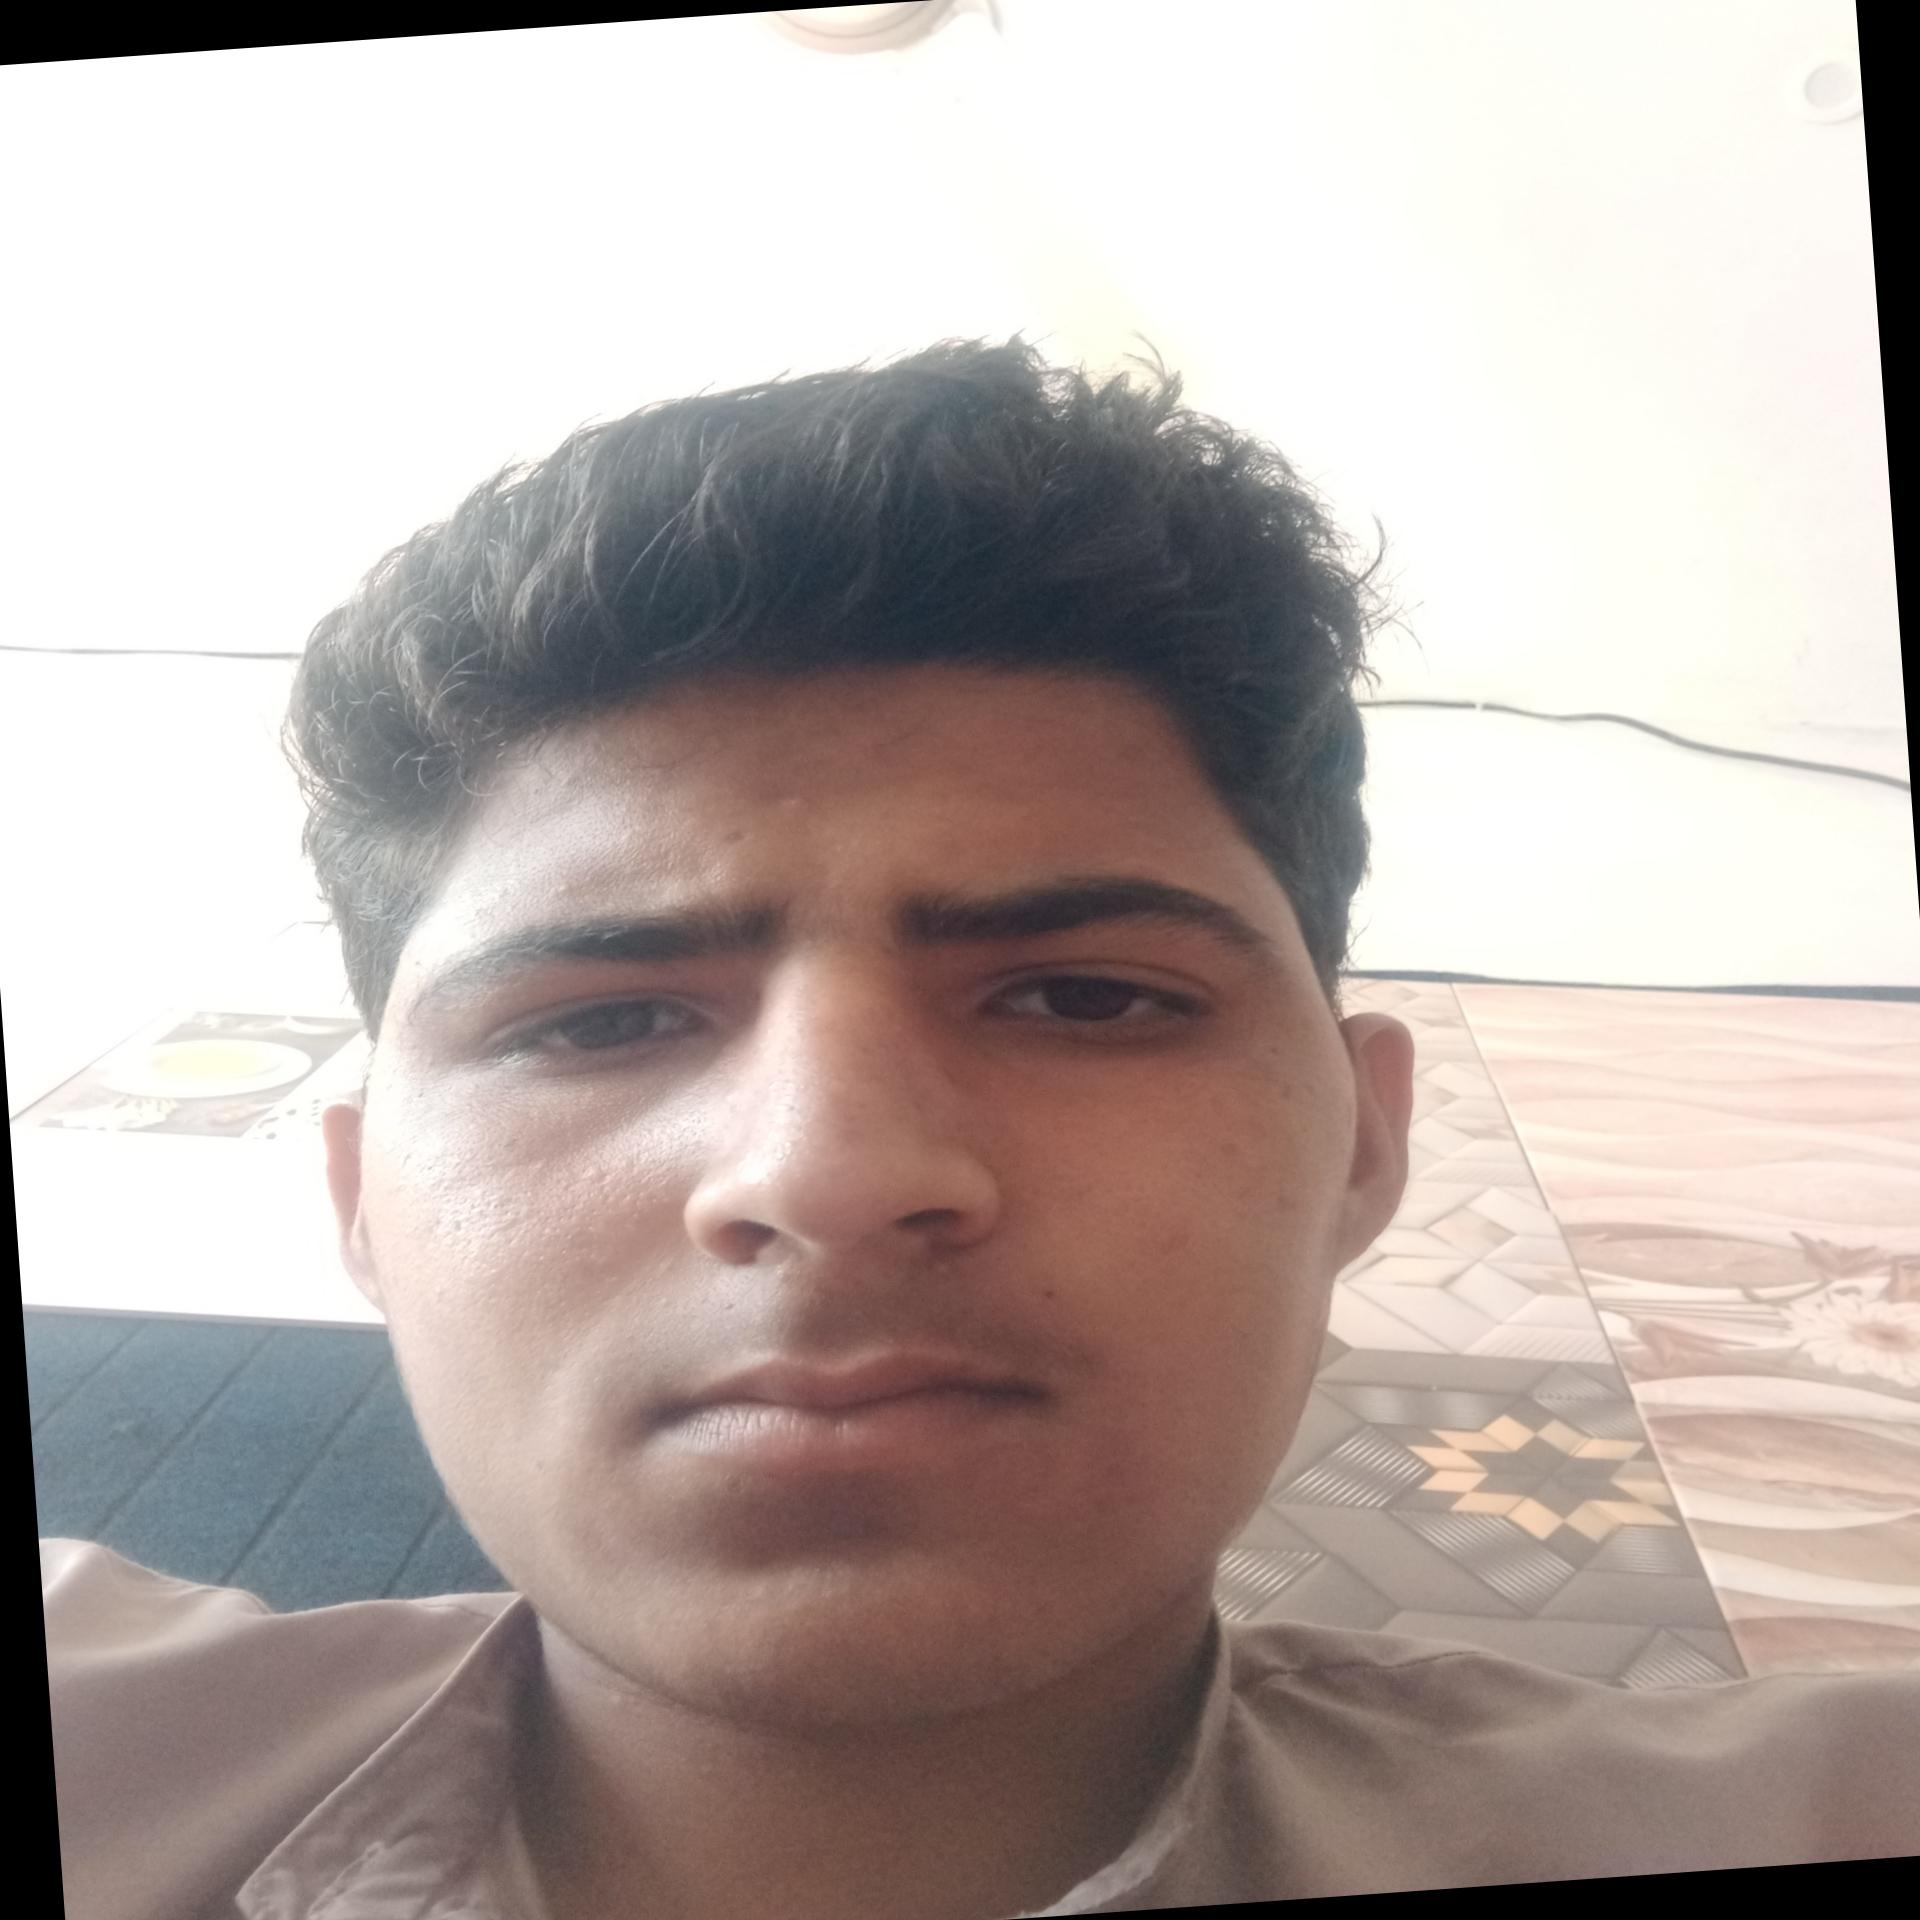Acne: (775, 784, 823, 825), (1032, 1278, 1087, 1313), (540, 870, 598, 902), (1257, 1187, 1306, 1215), (932, 1259, 967, 1285)
Englarged Pores: (429, 1116, 677, 1276)
